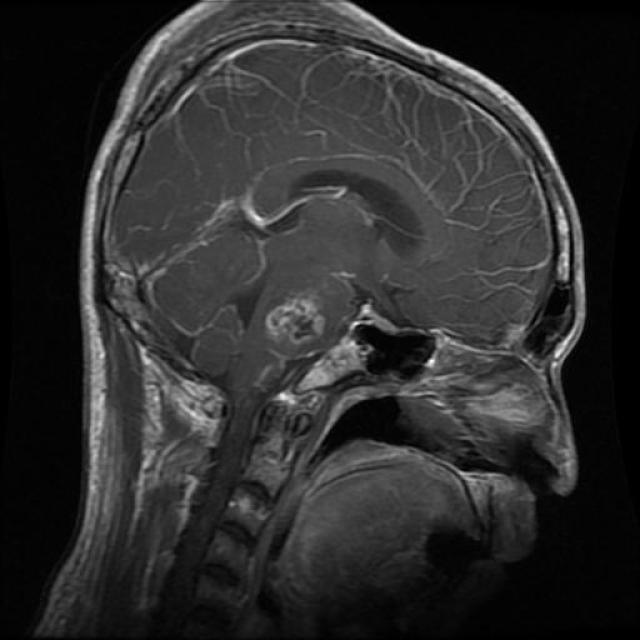glioma: (248, 150, 452, 268)
